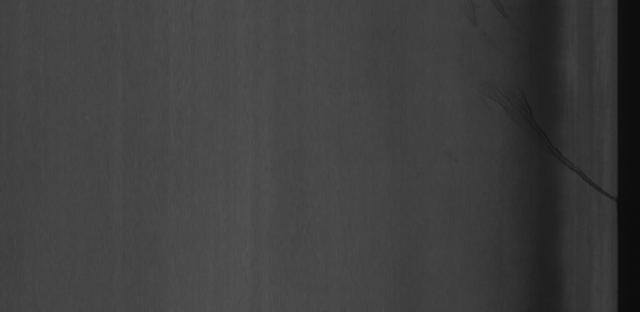water_spot: (473, 67, 615, 219)
